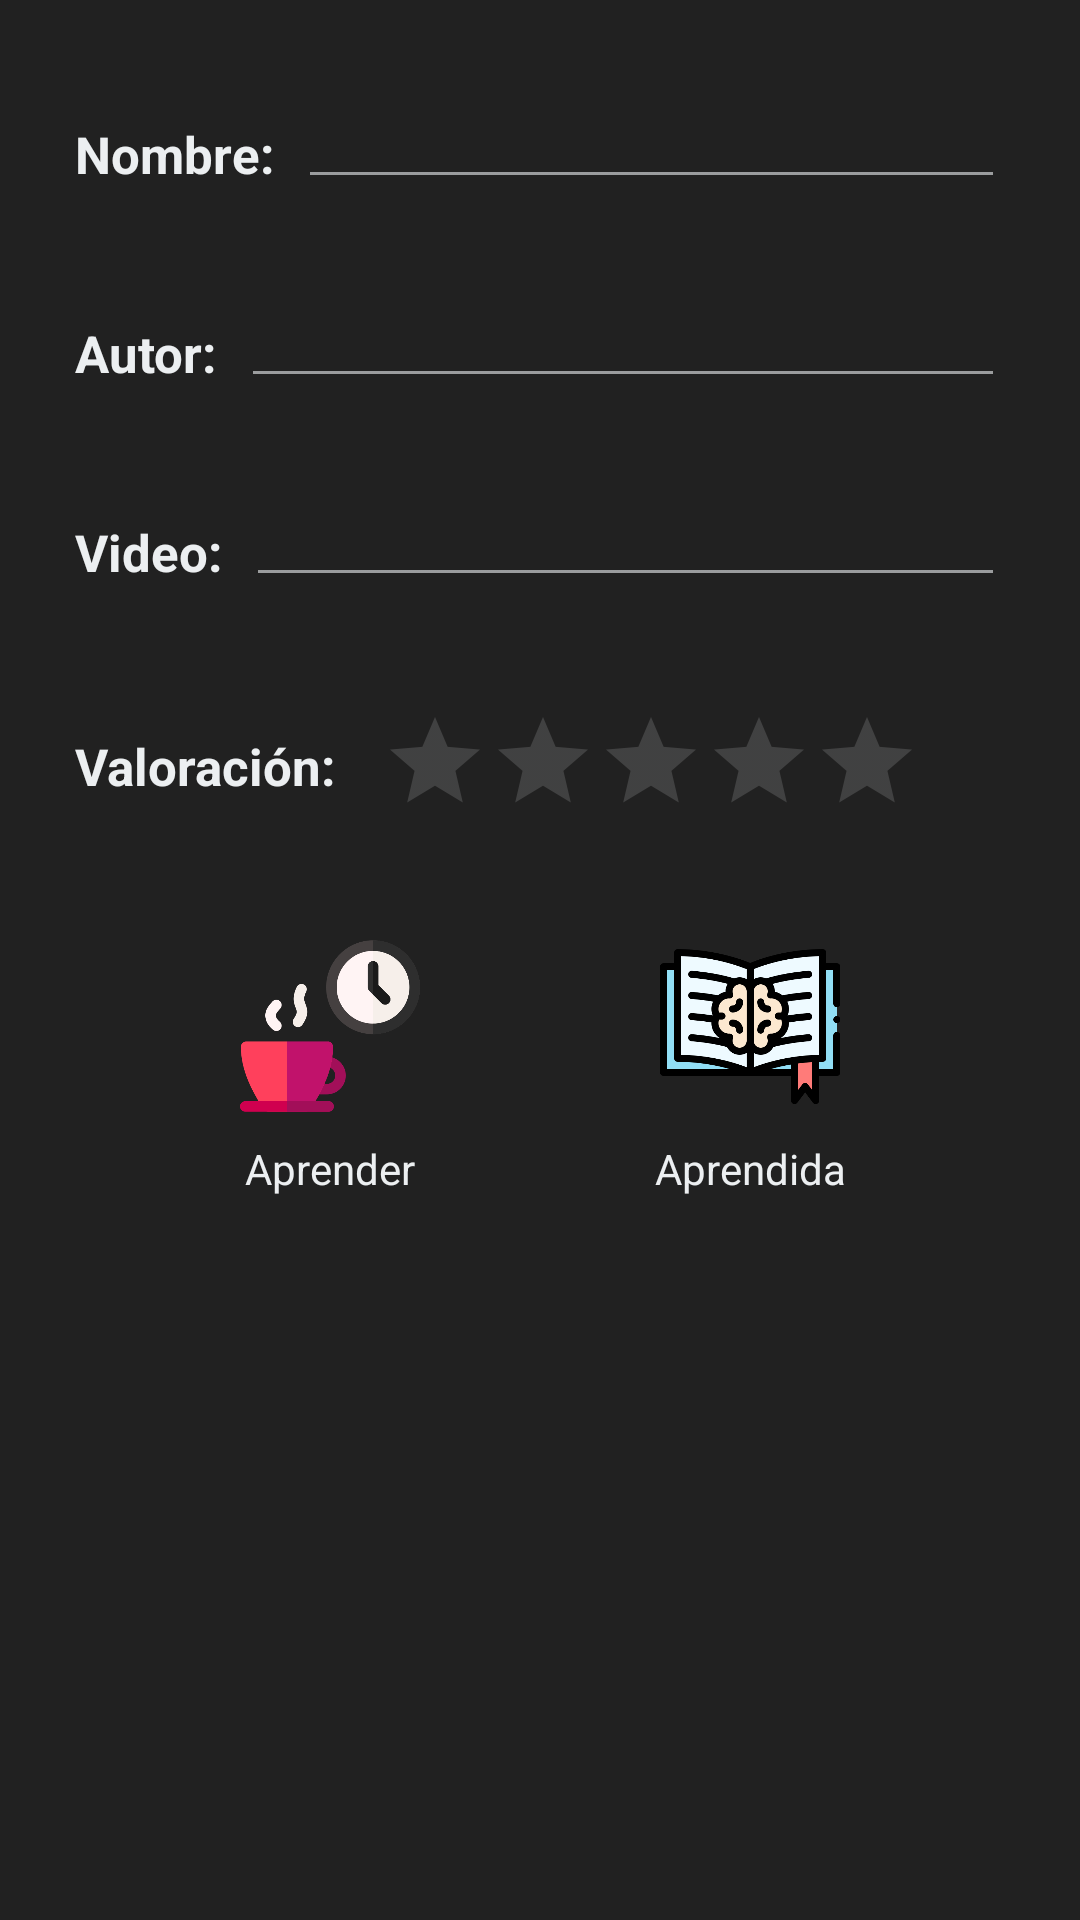

Icons on this 1080*1920 Android screen, each with the point to tap as point (x, y):
libro: point (750, 1026)
